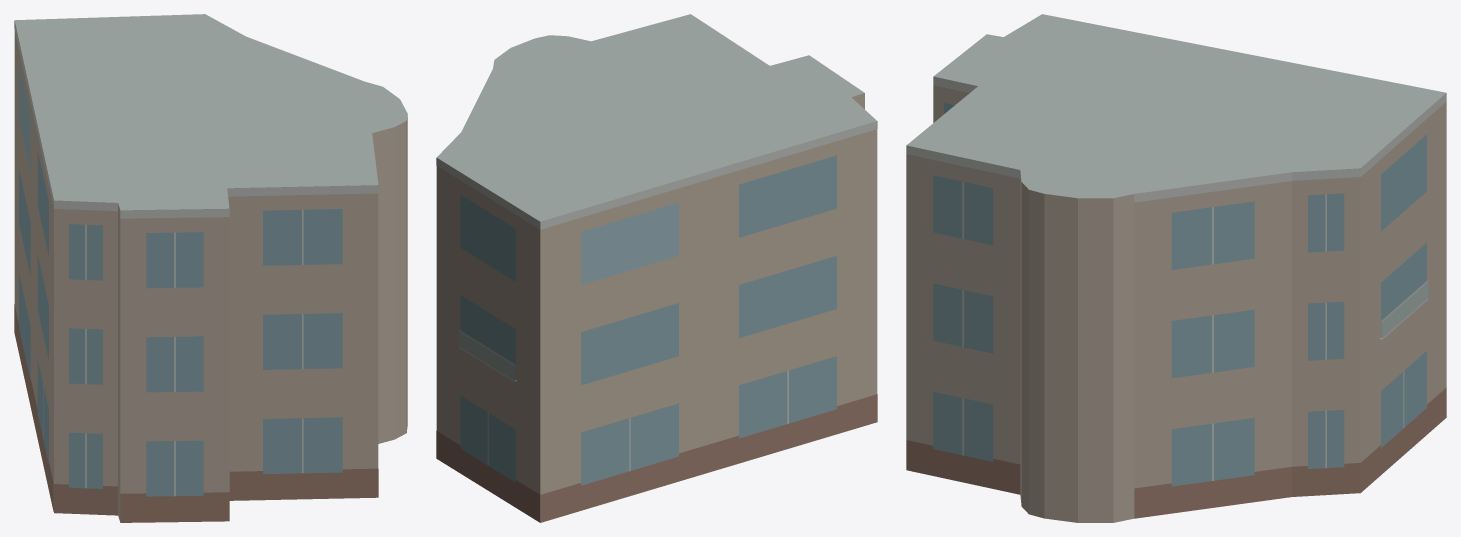
Rendered from survey-upis-32823561.glb.
The picture shows the model from 3 angles, left to right: view 1: azimuth 30°, elevation 25°; view 2: azimuth 150°, elevation 25°; view 3: azimuth 270°, elevation 25°; orthographic projection. The views are drawn at different scales.
Parts seen in each view (by area): view 1: survey-upis-32823561.tmp; view 2: survey-upis-32823561.tmp; view 3: survey-upis-32823561.tmp.
Boxes of the visible parts, left/top/right/bottom form: survey-upis-32823561.tmp: left=14, top=14, right=407, bottom=522; survey-upis-32823561.tmp: left=436, top=14, right=877, bottom=522; survey-upis-32823561.tmp: left=906, top=14, right=1446, bottom=522.
Bounding box in the file's own units: 11.14 × 9.15 × 13.81.
